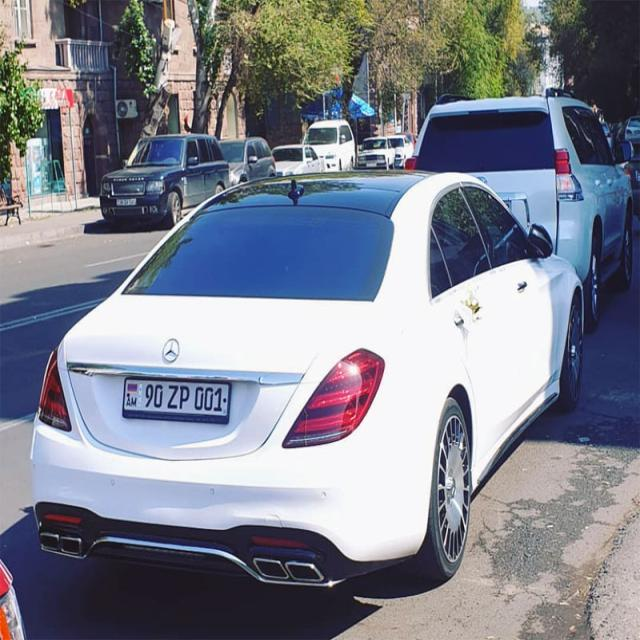number-plates: (121, 374, 232, 428)
